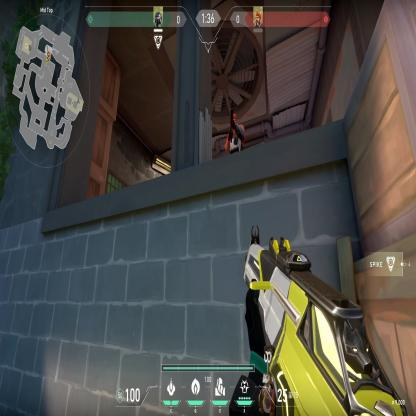enemy: (224, 108, 245, 156)
